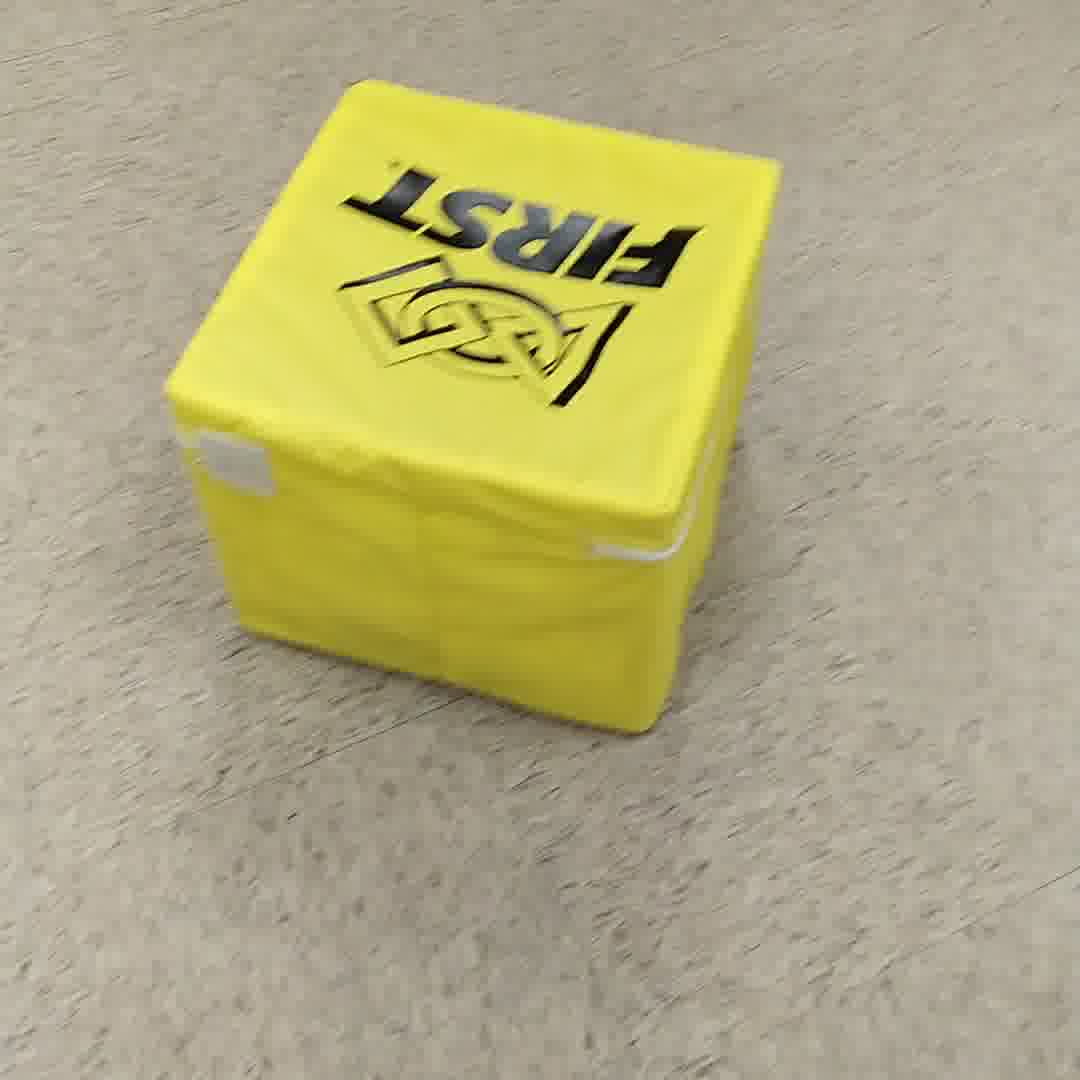box: (161, 83, 779, 715)
